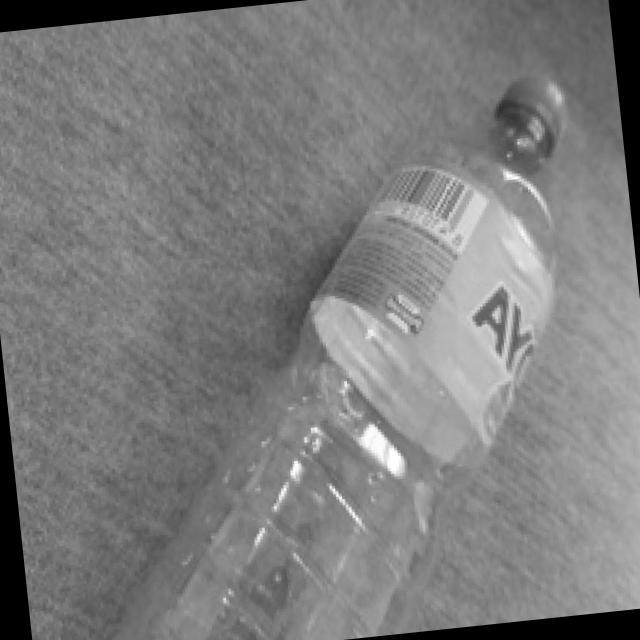good: (25, 45, 624, 640)
